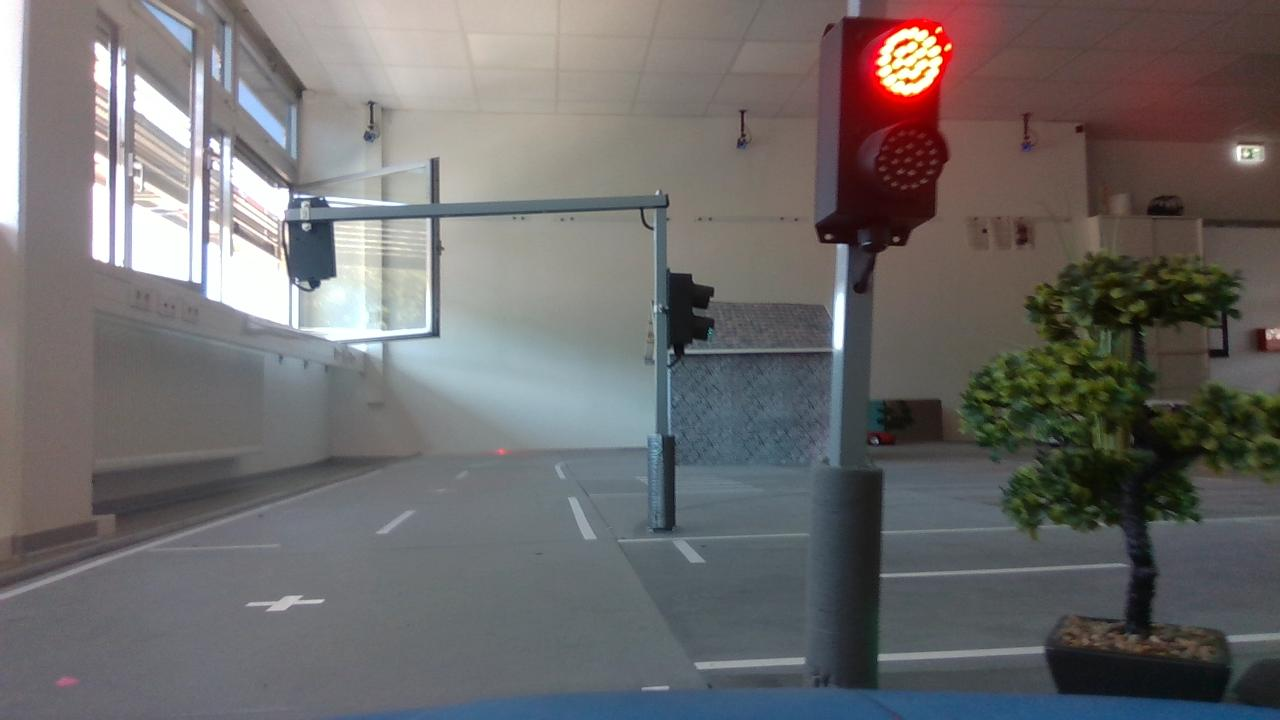traffic_light_red: (799, 3, 972, 277)
